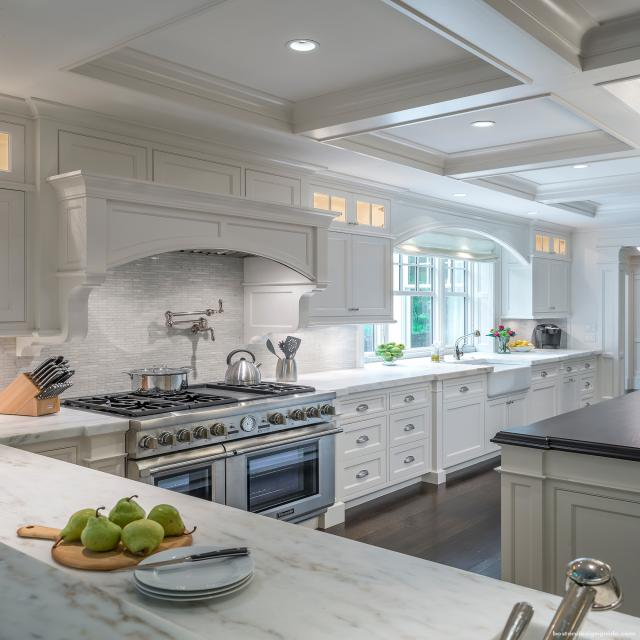Appliance_Oven: (63, 383, 341, 524)
Appliance_Sink: (447, 337, 531, 398)
Cabinet_Glass: (315, 192, 393, 237), (0, 122, 28, 181), (533, 233, 574, 258)
Cabinet_Shaker: (334, 358, 600, 502), (60, 131, 304, 206), (306, 230, 395, 325), (0, 186, 28, 324), (531, 256, 570, 319), (41, 447, 77, 464)
Countertop_Marble: (0, 444, 564, 640), (298, 358, 493, 391), (0, 409, 132, 448), (463, 349, 596, 363), (576, 612, 640, 640)
Countertop_Solid_Surface: (490, 390, 640, 462)
